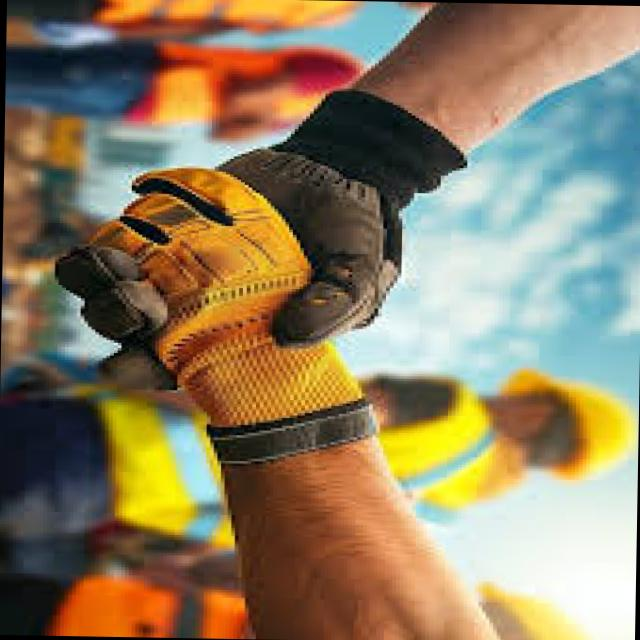gloved: (94, 166, 395, 461), (246, 85, 476, 332)
